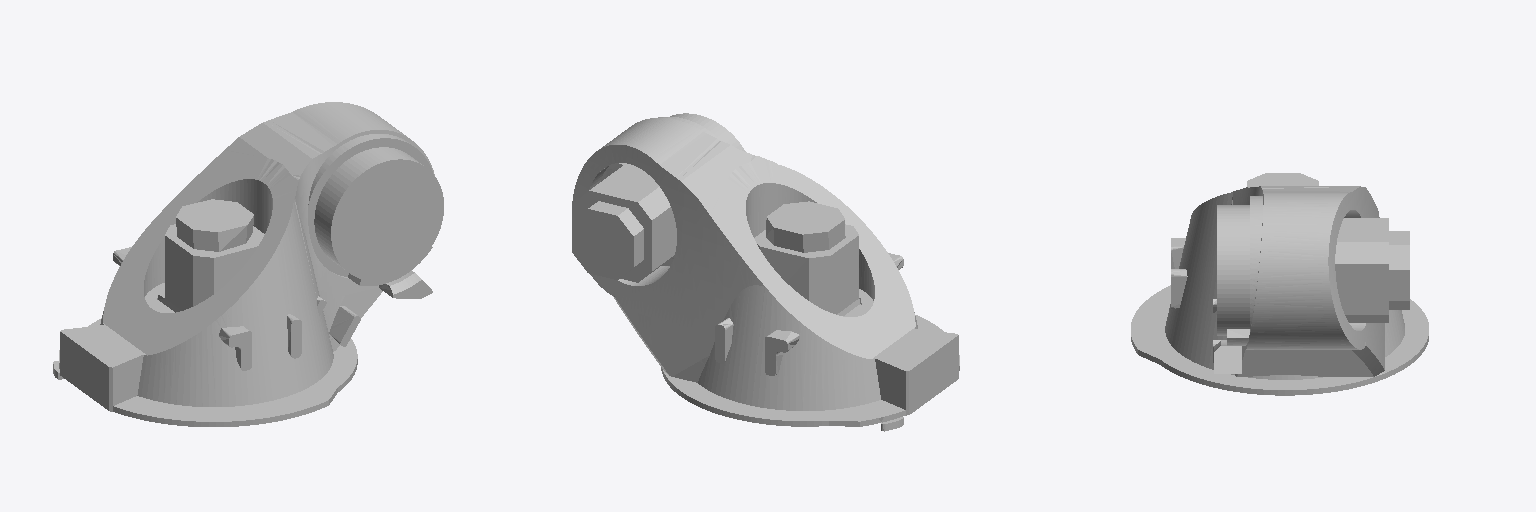
3 renders of one model, left to right at view 1: azimuth 30°, elevation 25°; view 2: azimuth 150°, elevation 25°; view 3: azimuth 270°, elevation 25°, orthographic.
Visible parts, largest first — view 1: kr60_2_kr60_3.002; view 2: kr60_2_kr60_3.002; view 3: kr60_2_kr60_3.002.
Part boxes in pixels (x1,y1,x2,y2): kr60_2_kr60_3.002: (53,102,443,426); kr60_2_kr60_3.002: (572,113,959,431); kr60_2_kr60_3.002: (1131,173,1428,395).
Bounding box in the file's own units: 1 × 0.603 × 0.7711.